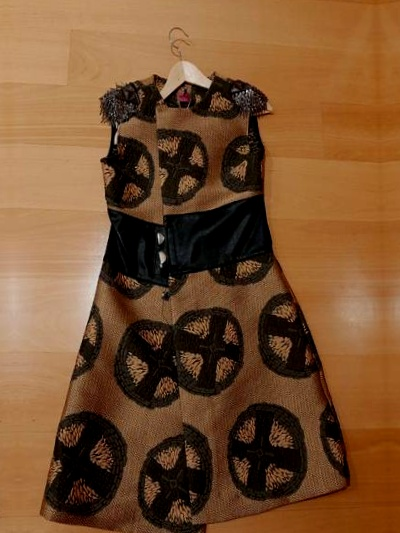Dress: (16, 45, 365, 533), (0, 54, 10, 533)
